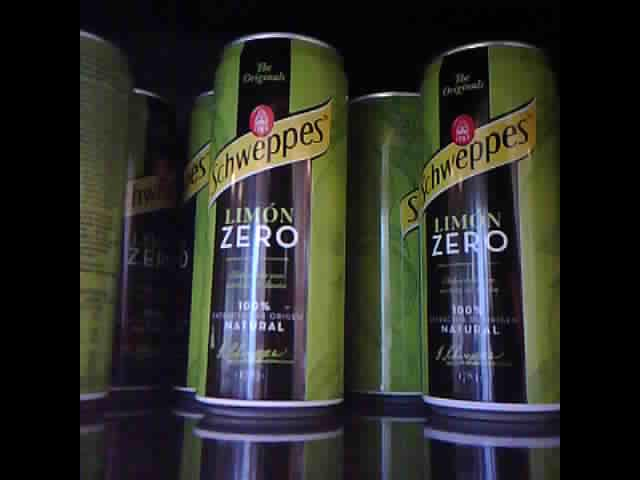schweppes: (191, 34, 347, 417), (420, 25, 559, 417), (348, 87, 421, 404), (78, 23, 128, 407), (112, 78, 167, 395), (173, 79, 215, 396)
